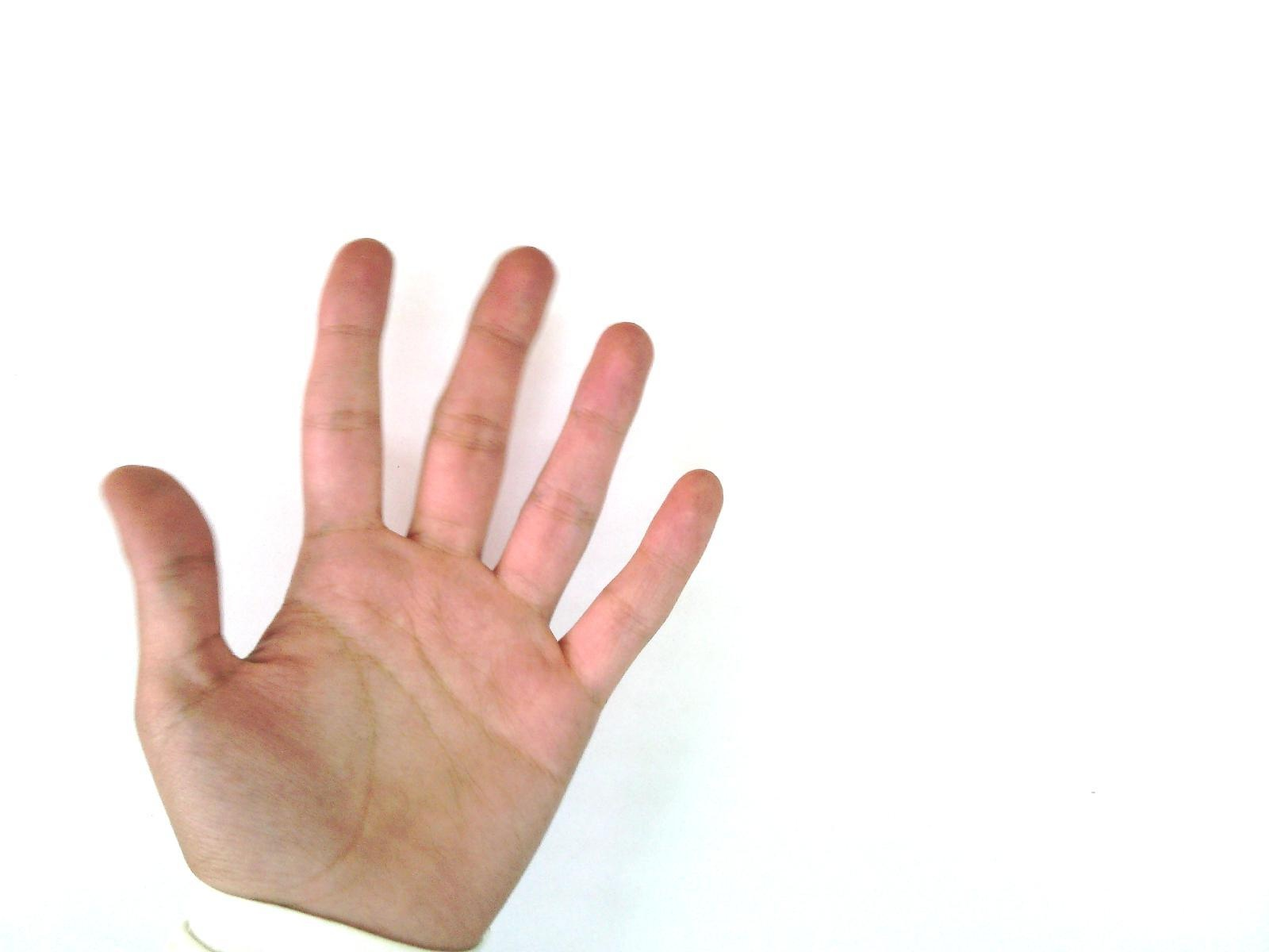open_palm: (98, 236, 727, 951)
